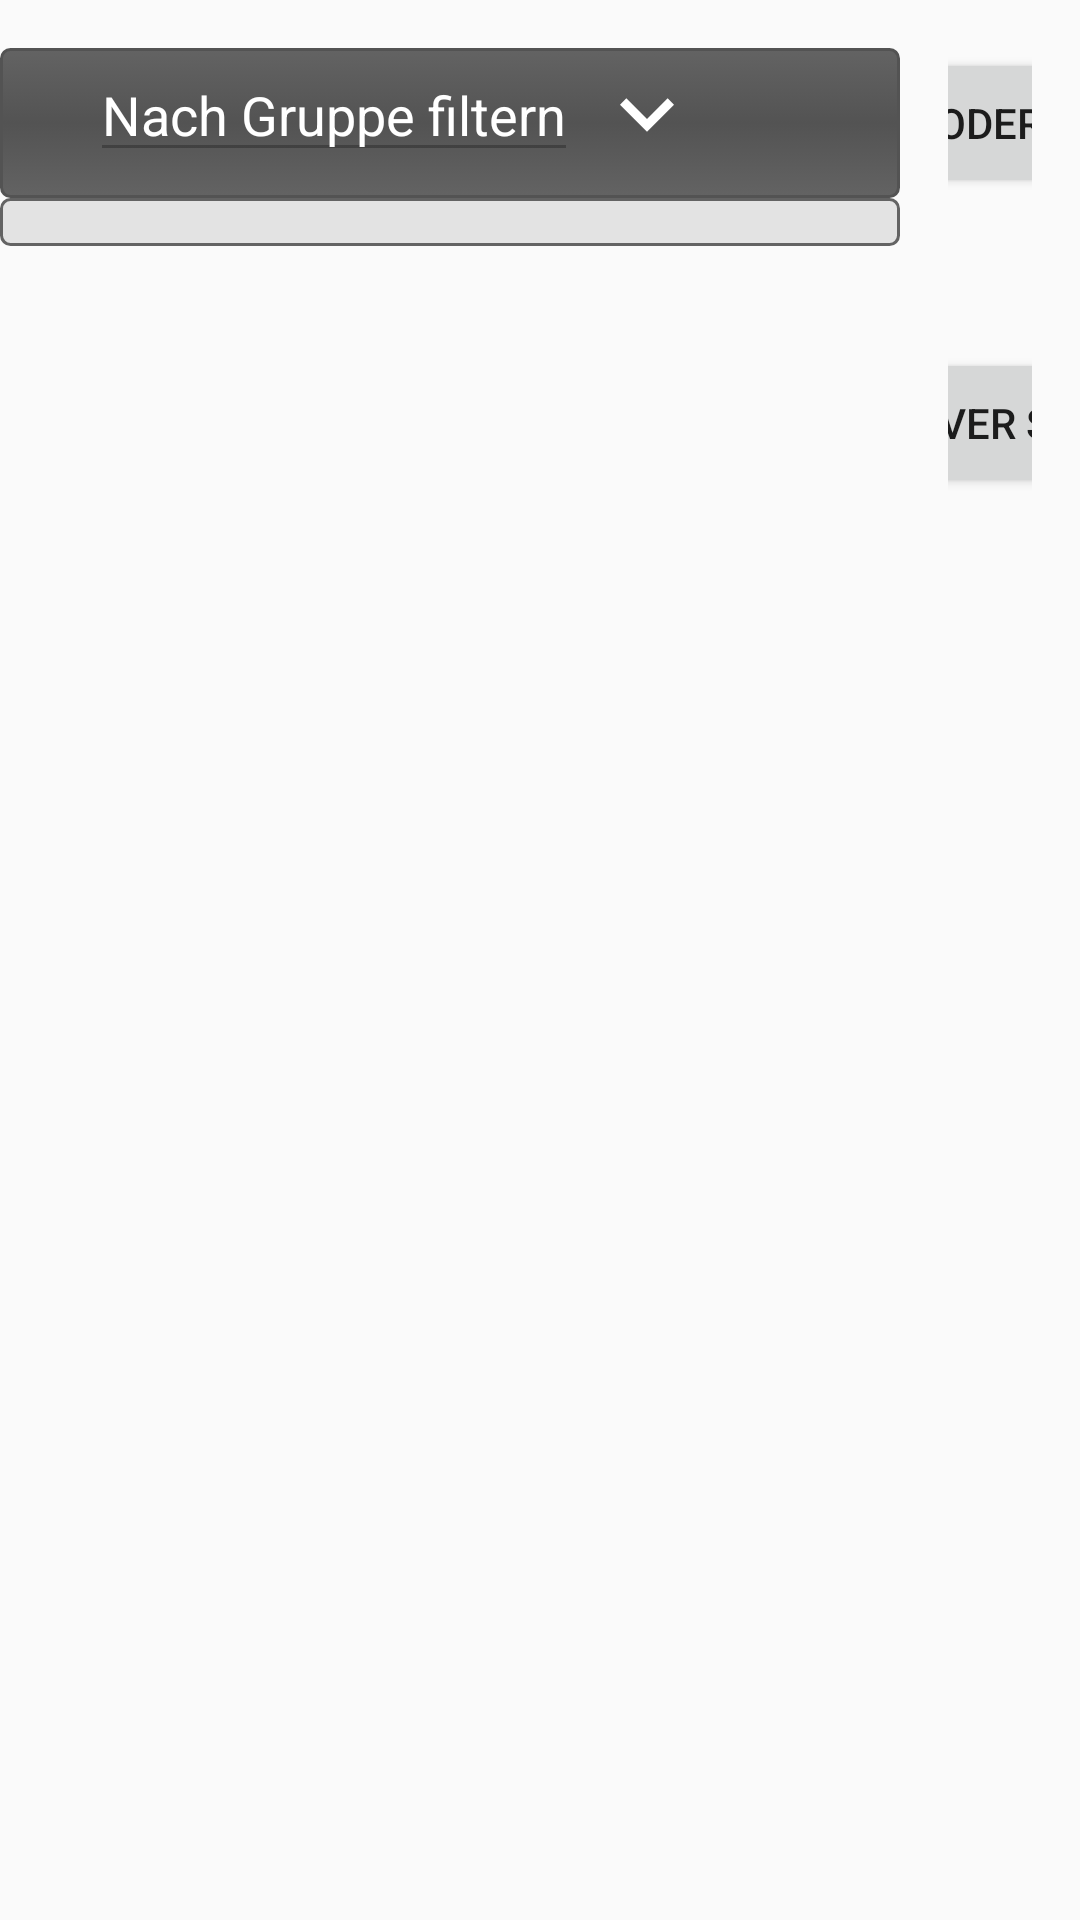

Where icons sit on this 1080w x 1920h app screen, as (x1, y1, x2, y2):
Zeige Optionen: (620, 98, 674, 132)
